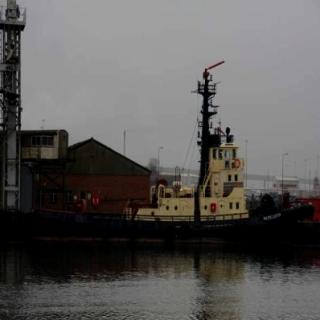Tug Boat: (22, 89, 320, 240)
